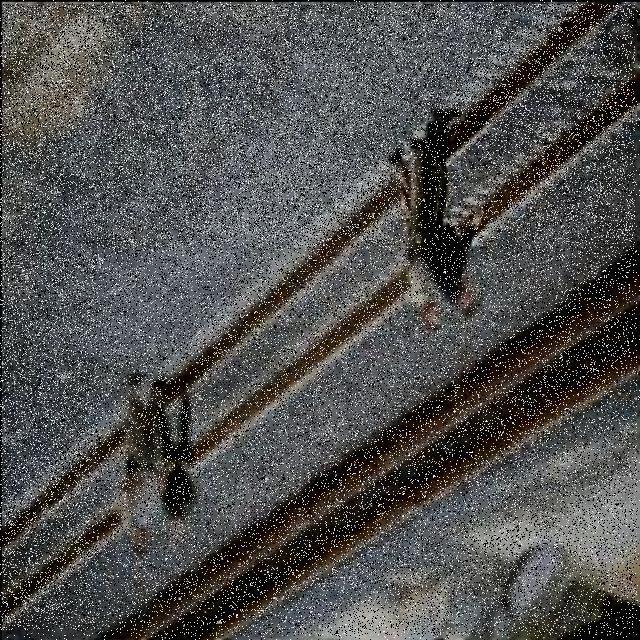rail: (2, 6, 636, 631), (100, 250, 638, 637)
